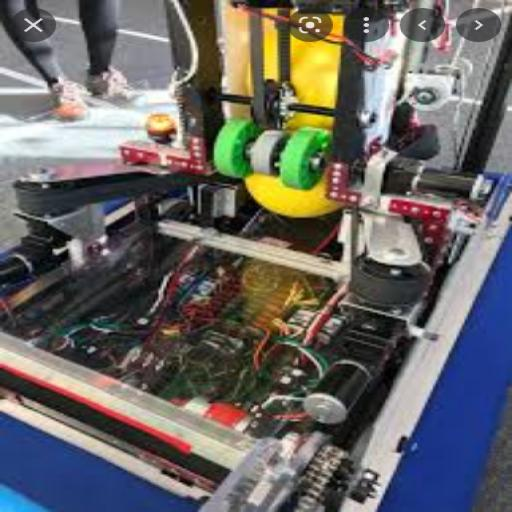robot: (9, 5, 444, 505)
